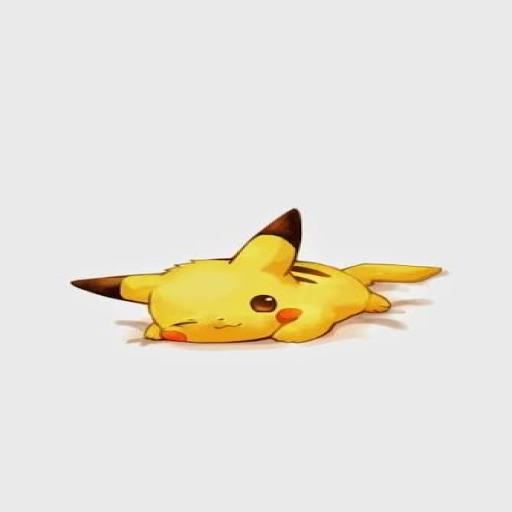Pikachu: (69, 207, 443, 345)
